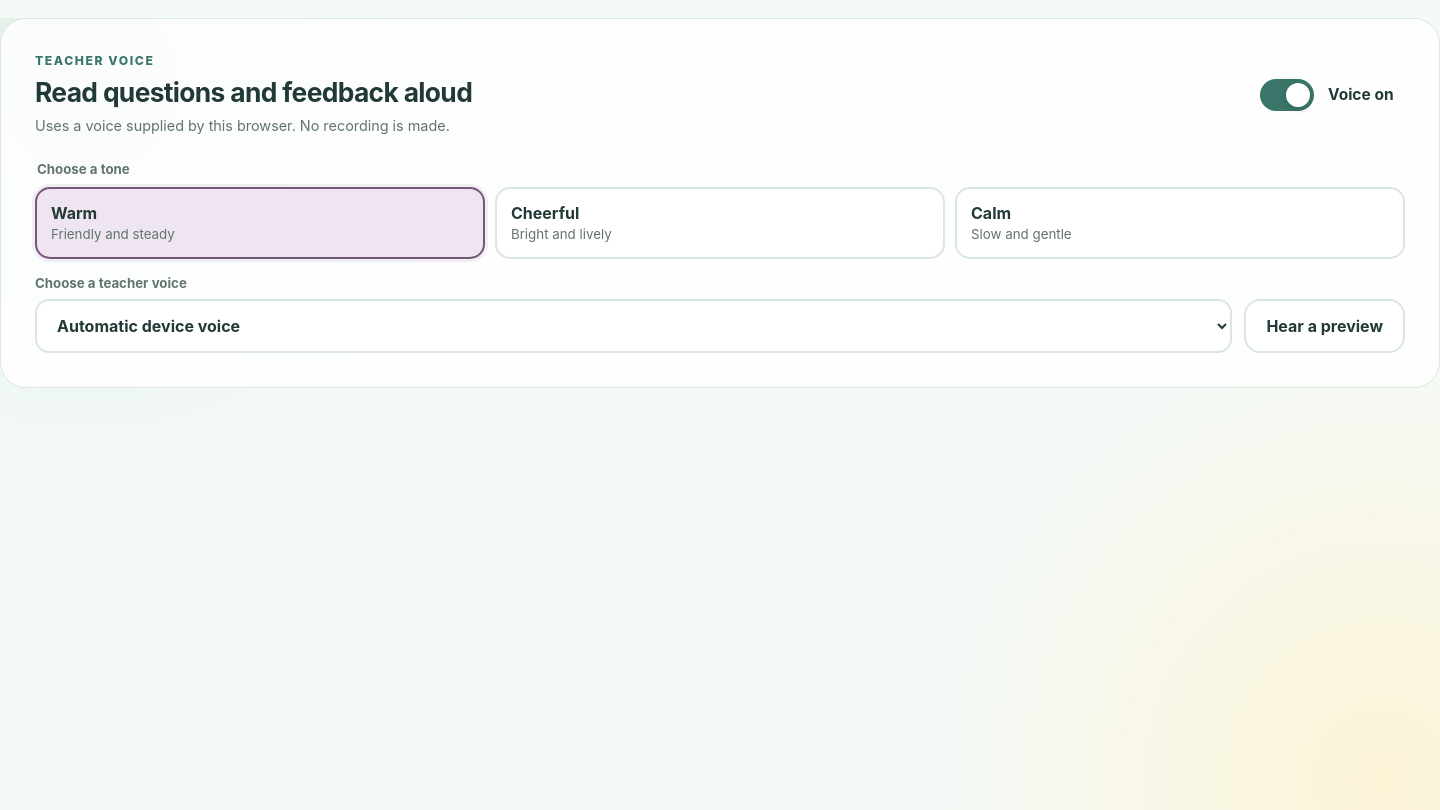
Test: VoiceSettingsPanel › stops speech and disables controls when voice is switched off
The image size is (1440, 810).
Click the checkbox at {"x": 1327, "y": 95}, box [1260, 79, 1394, 111]
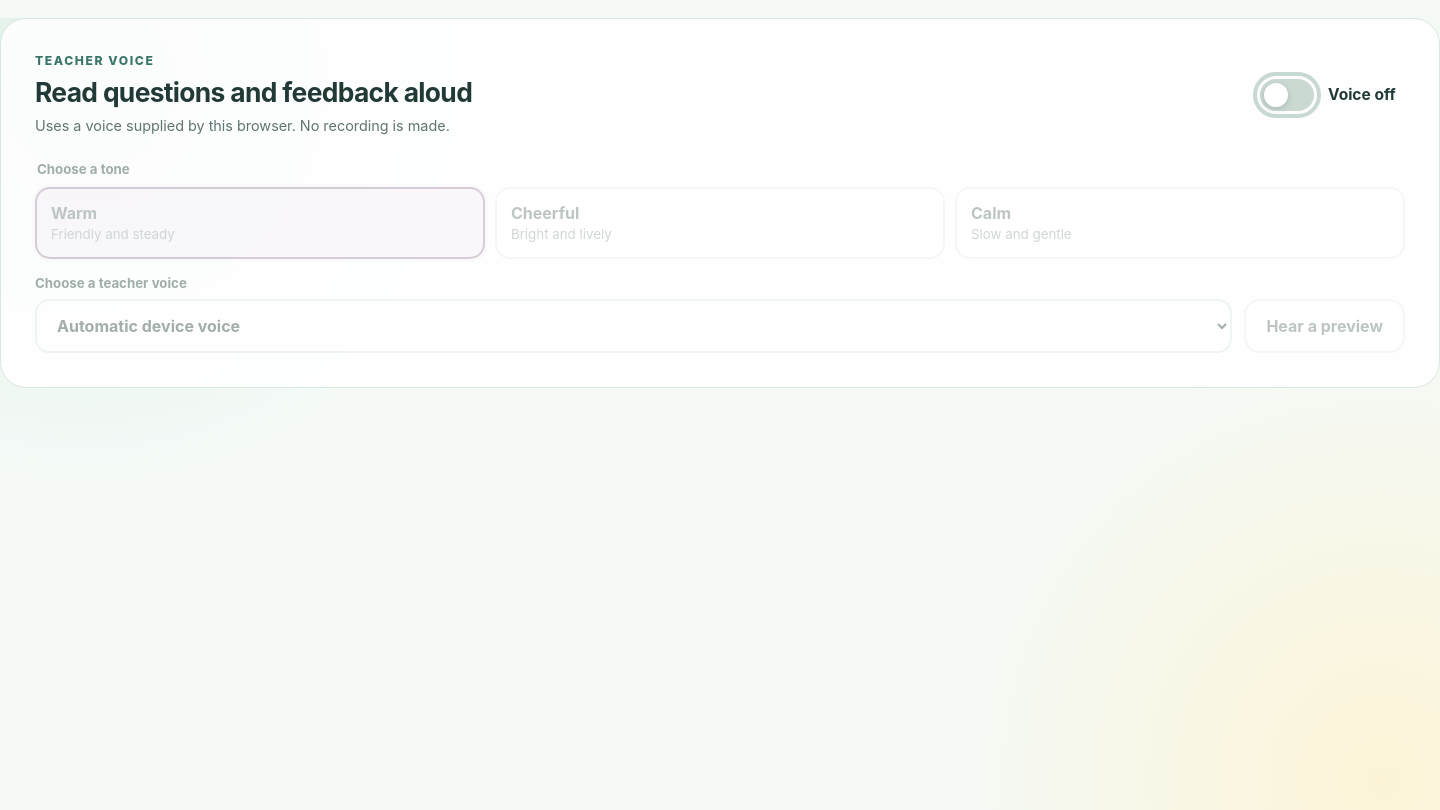
Expected: the button "Warm Friendly and steady" is disabled, [35, 187, 485, 259]
Expected: the button "Hear a preview" is disabled, [1244, 299, 1405, 353]
